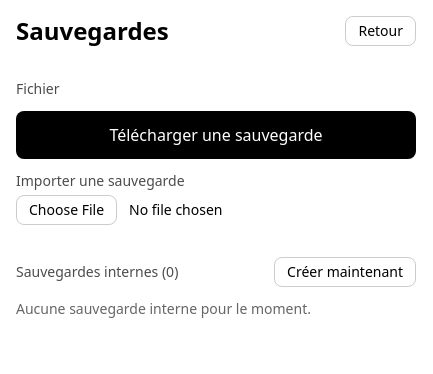
Test: BackupScreen › crée une sauvegarde interne à la demande
Expected: the text "Aucune sauvegarde interne pour le moment." is shown, 16,299 -> 311,318
Click the button "Créer maintenant".
click(345, 272)  # box 274,257 -> 416,287
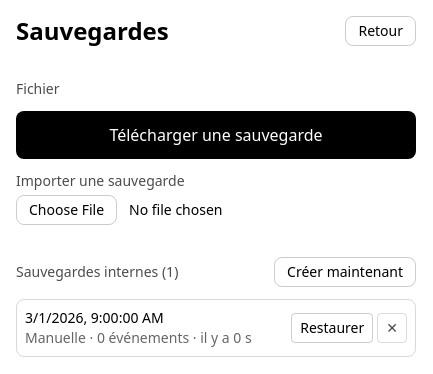
Expected: the text "Manuelle · 0 événements · il y a 0 s" is shown, 25,328 -> 252,348
